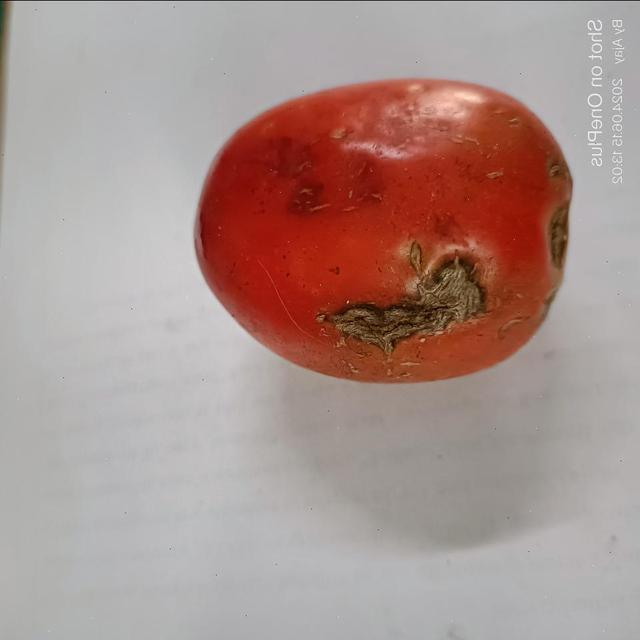Bacterial Spot Fruit: (12, 15, 372, 216)
